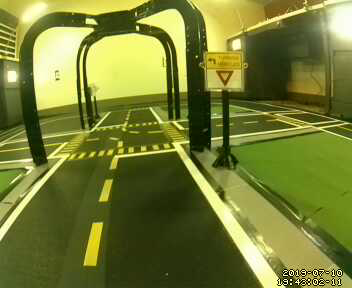Turn Yield: (204, 50, 245, 93)
